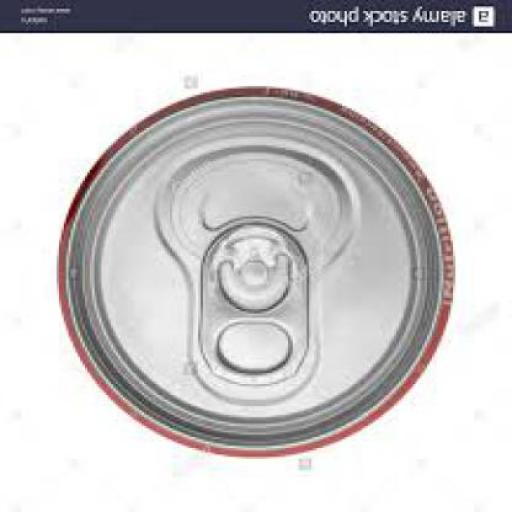metal: (62, 92, 456, 459)
